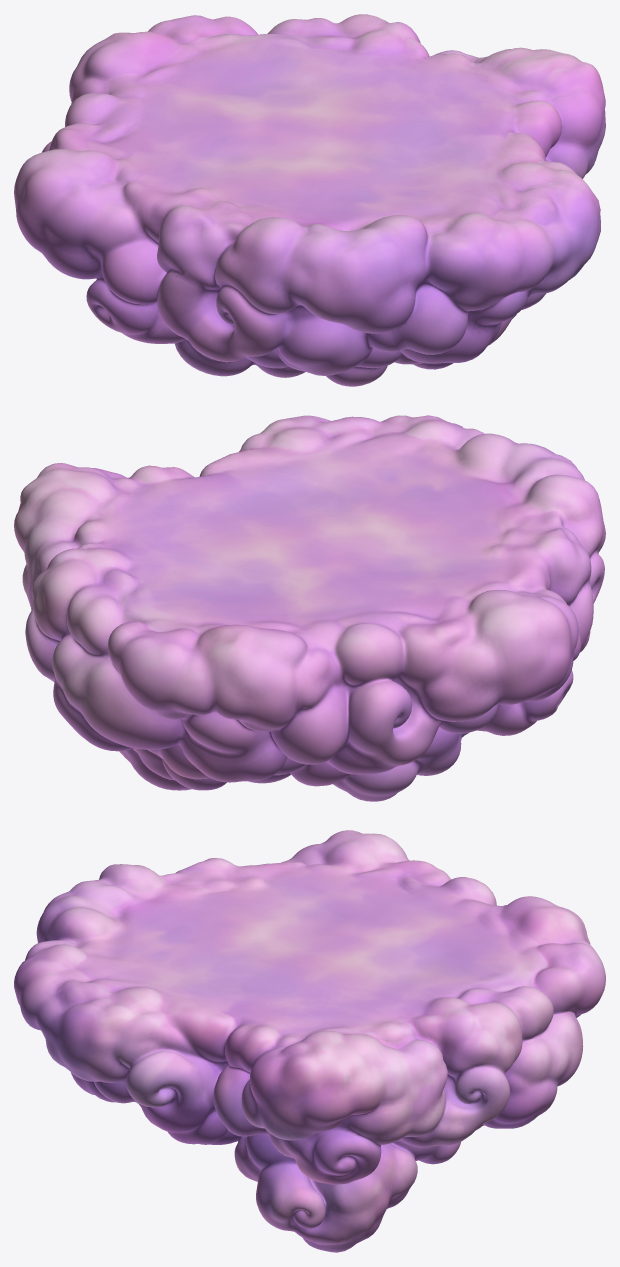
The picture shows the model from 3 angles, top to bottom: view 1: azimuth 30°, elevation 25°; view 2: azimuth 150°, elevation 25°; view 3: azimuth 270°, elevation 25°; orthographic projection. The views are drawn at different scales.
Visible parts, largest first — view 1: tripo_node_d278f588-c9e7-47f0-a76d-8d5b0ddfe764; view 2: tripo_node_d278f588-c9e7-47f0-a76d-8d5b0ddfe764; view 3: tripo_node_d278f588-c9e7-47f0-a76d-8d5b0ddfe764.
Part boxes in pixels (<box>): tripo_node_d278f588-c9e7-47f0-a76d-8d5b0ddfe764: <box>14,14,605,386</box>; tripo_node_d278f588-c9e7-47f0-a76d-8d5b0ddfe764: <box>14,415,605,801</box>; tripo_node_d278f588-c9e7-47f0-a76d-8d5b0ddfe764: <box>14,830,605,1252</box>.
Size of the model in its own units: 0.9654 by 0.4807 by 0.9791.
Materials: 1 (1 with a texture image).
